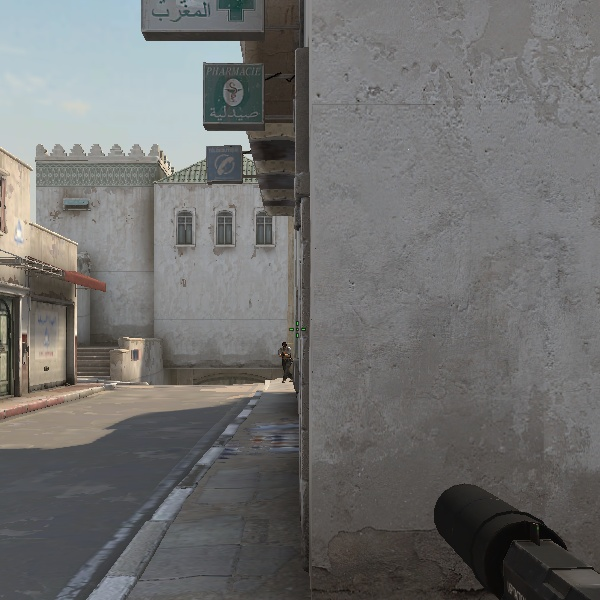t_body: (277, 341, 295, 384)
t_head: (281, 342, 288, 351)
